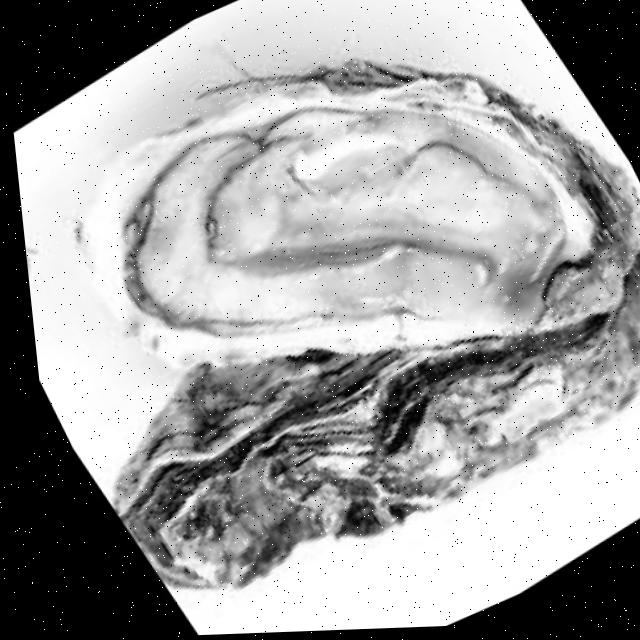Oyster-Closed: (110, 331, 640, 589)
Oyster-Open: (105, 58, 629, 370)
